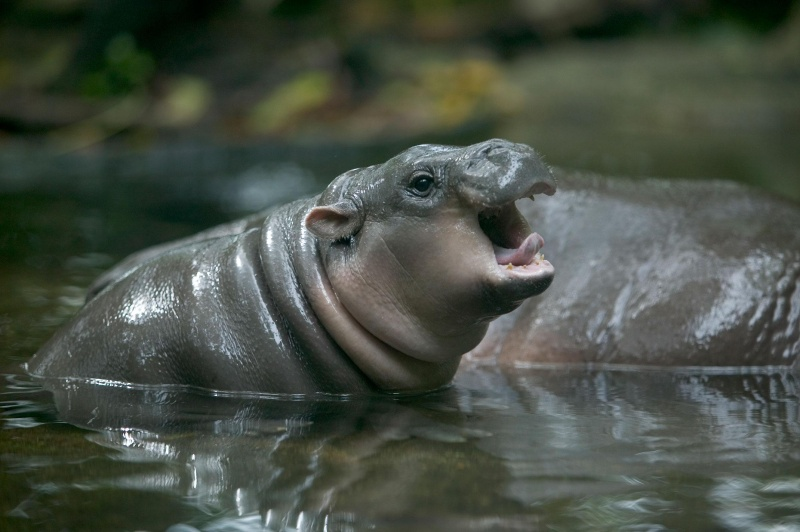hipopotamo: (38, 141, 561, 398)
